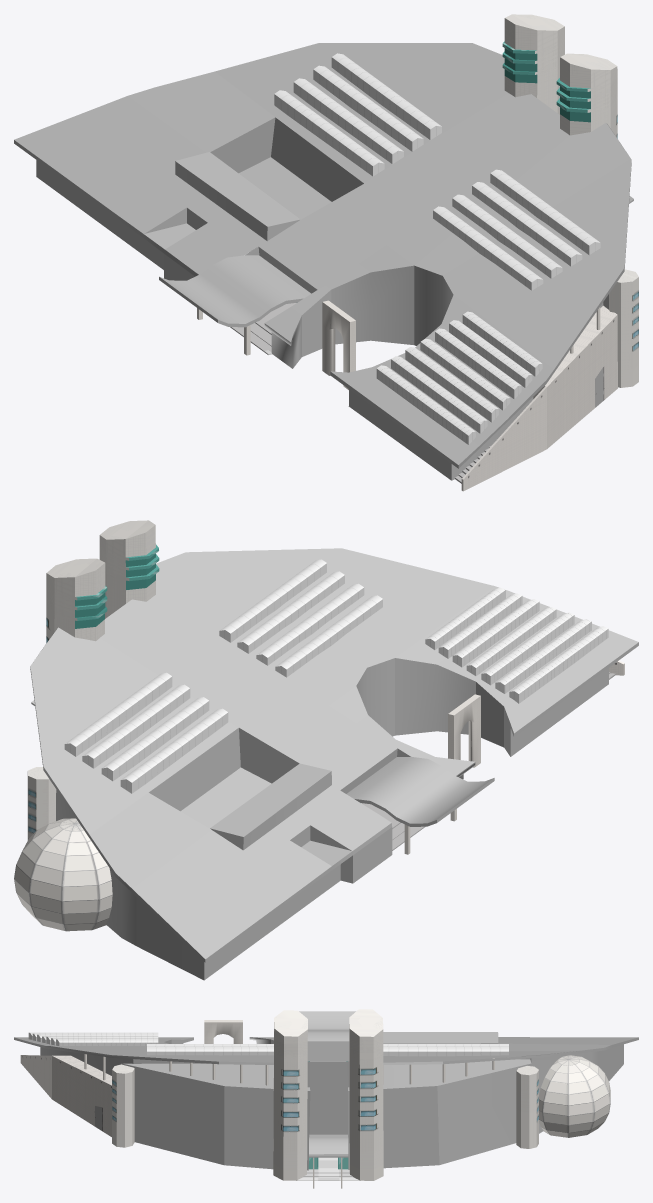
The model's file is yueyalou.fbx.
The picture shows the model from 3 angles, top to bottom: view 1: azimuth 30°, elevation 25°; view 2: azimuth 150°, elevation 25°; view 3: azimuth 270°, elevation 25°; orthographic projection. The views are drawn at different scales.
Visible parts, largest first — view 1: yueyalou, dingliang_youxia, dingliang_you1, polySurface796, ear, dingliang_you, polySurface801, men, taijie; view 2: yueyalou, dingliang_youxia, dingliang_you1, ear, pSphere1, dingliang_you, men, polySurface801; view 3: yueyalou, ear, pSphere1, polySurface796, polySurface801, dingliang_youxia, dingliang_you1, dingliang_you, taijie, men, polySurface800.
Part boxes in pixels (box(x1,y1,x2,y2)): yueyalou: box(14, 43, 633, 480); dingliang_youxia: box(376, 311, 542, 444); dingliang_you1: box(274, 53, 441, 176); polySurface796: box(461, 305, 617, 491); ear: box(502, 14, 617, 138); dingliang_you: box(433, 169, 600, 290); polySurface801: box(609, 269, 638, 387); men: box(322, 300, 355, 389); taijie: box(230, 303, 296, 355); yueyalou: box(30, 548, 638, 980); dingliang_youxia: box(425, 587, 608, 703); dingliang_you1: box(64, 672, 228, 793); ear: box(46, 520, 159, 642); pSphere1: box(14, 818, 112, 931); dingliang_you: box(219, 559, 382, 677); men: box(448, 694, 480, 767); polySurface801: box(27, 767, 56, 840); yueyalou: box(14, 1011, 638, 1170); ear: box(273, 1009, 383, 1180); pSphere1: box(539, 1055, 610, 1137); polySurface796: box(20, 1055, 111, 1136); polySurface801: box(112, 1064, 538, 1148); dingliang_youxia: box(28, 1032, 158, 1045); dingliang_you1: box(383, 1044, 508, 1057); dingliang_you: box(147, 1044, 273, 1055); taijie: box(297, 1061, 360, 1180); men: box(204, 1020, 242, 1043); polySurface800: box(84, 1054, 494, 1085).
Bounding box in the file's own units: 37.22 × 18.29 × 66.39.
